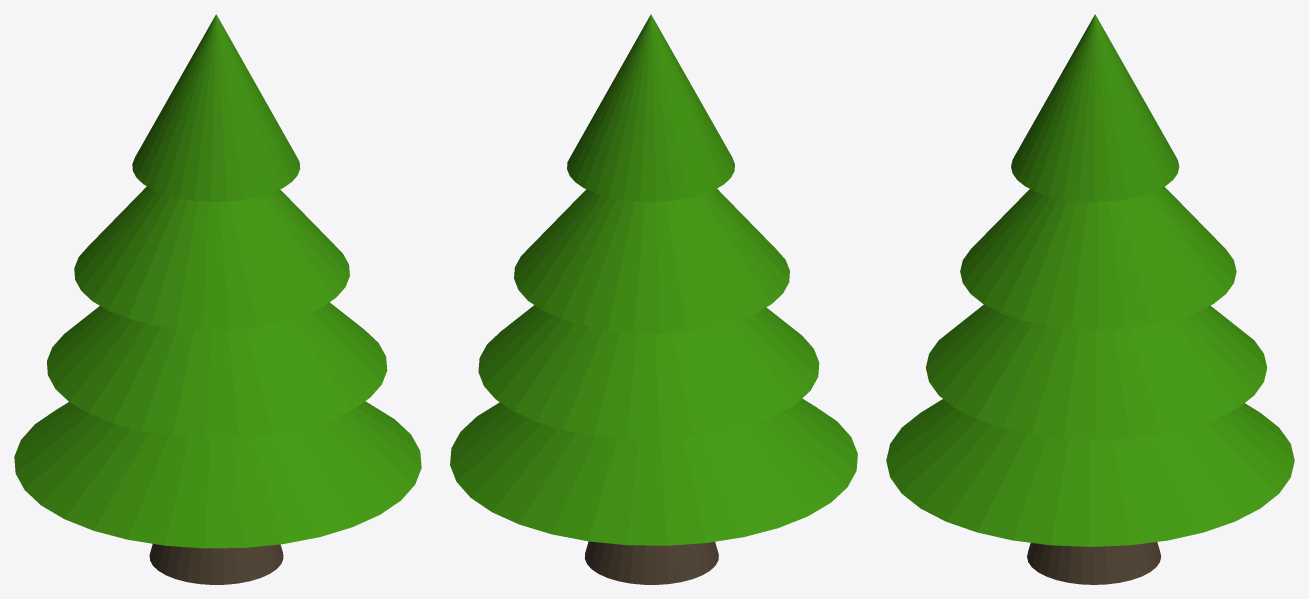
File: Pino.glb
The picture shows the model from 3 angles, left to right: view 1: azimuth 30°, elevation 25°; view 2: azimuth 150°, elevation 25°; view 3: azimuth 270°, elevation 25°; orthographic projection.
Parts seen in each view (by area): view 1: Cono, Cono.001, Cono.002, Cono.003, Cilindro; view 2: Cono, Cono.001, Cono.002, Cono.003, Cilindro; view 3: Cono, Cono.001, Cono.002, Cono.003, Cilindro.
Boxes of the visible parts, x1,y1,x2,y2 form: Cono: [14, 401, 421, 548]; Cono.001: [47, 302, 387, 437]; Cono.002: [74, 186, 349, 330]; Cono.003: [132, 14, 300, 201]; Cilindro: [149, 544, 283, 584]; Cono: [450, 398, 857, 545]; Cono.001: [478, 305, 819, 439]; Cono.002: [514, 189, 789, 333]; Cono.003: [567, 14, 734, 202]; Cilindro: [584, 541, 718, 584]; Cono: [886, 399, 1294, 546]; Cono.001: [926, 304, 1267, 439]; Cono.002: [960, 186, 1236, 329]; Cono.003: [1011, 14, 1179, 202]; Cilindro: [1027, 542, 1161, 584].
Bounding box in the file's own units: 4.85 × 7.11 × 4.85.
